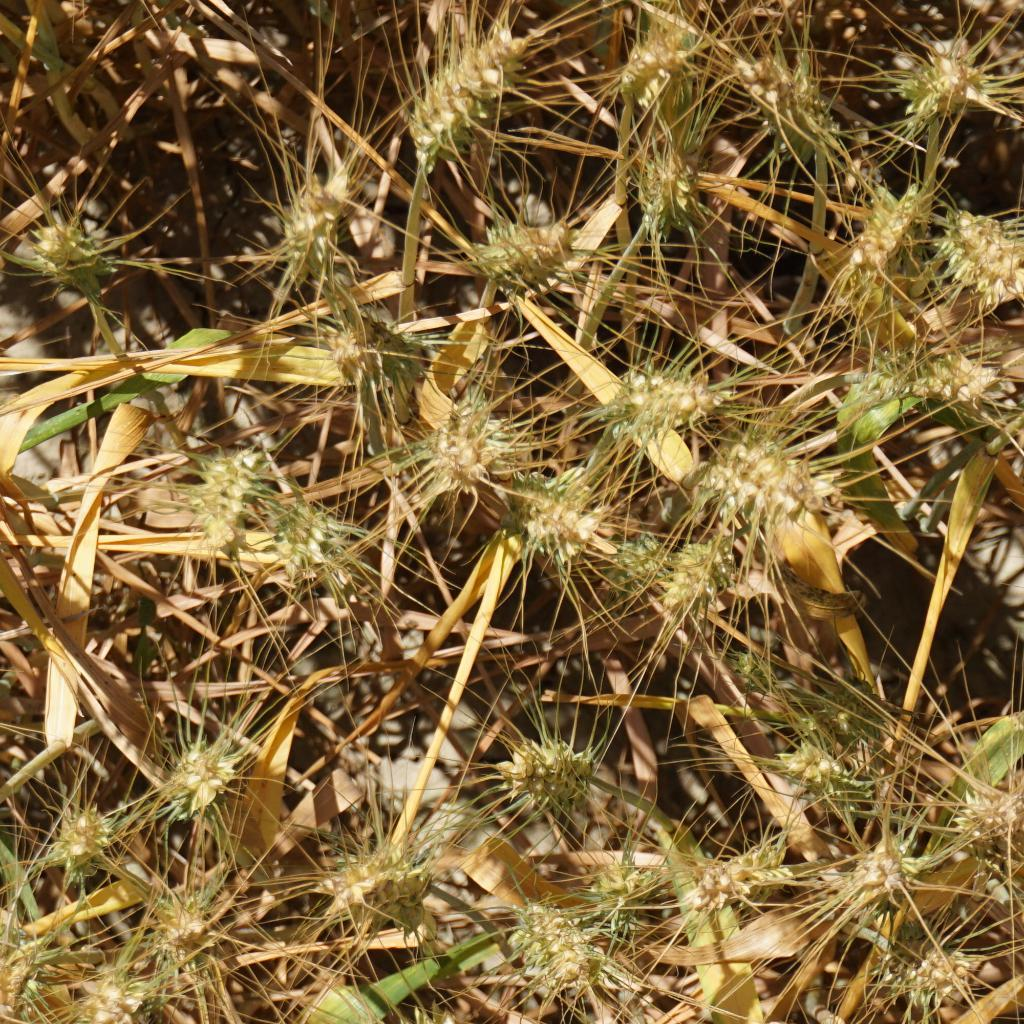0-0: (396, 30, 530, 163), (702, 433, 839, 531), (497, 470, 621, 572), (495, 894, 604, 1001), (486, 713, 604, 811), (608, 361, 740, 446), (314, 837, 431, 928), (941, 186, 1024, 314), (480, 201, 572, 301), (422, 380, 502, 493), (19, 192, 100, 299), (865, 340, 994, 406), (154, 728, 237, 824), (873, 931, 973, 1007), (623, 150, 709, 235), (656, 524, 730, 622), (43, 802, 120, 890), (897, 38, 984, 114), (194, 439, 248, 559), (688, 841, 790, 904), (296, 992, 495, 1024), (265, 485, 342, 567), (839, 186, 914, 268), (602, 20, 685, 92), (151, 894, 220, 972), (284, 196, 349, 276), (734, 53, 799, 130), (778, 744, 857, 807), (342, 315, 415, 379), (815, 672, 886, 735), (852, 839, 920, 896), (66, 970, 136, 1024), (606, 854, 656, 921), (961, 784, 1024, 837), (611, 525, 664, 578), (722, 637, 765, 687), (0, 956, 29, 1024)
